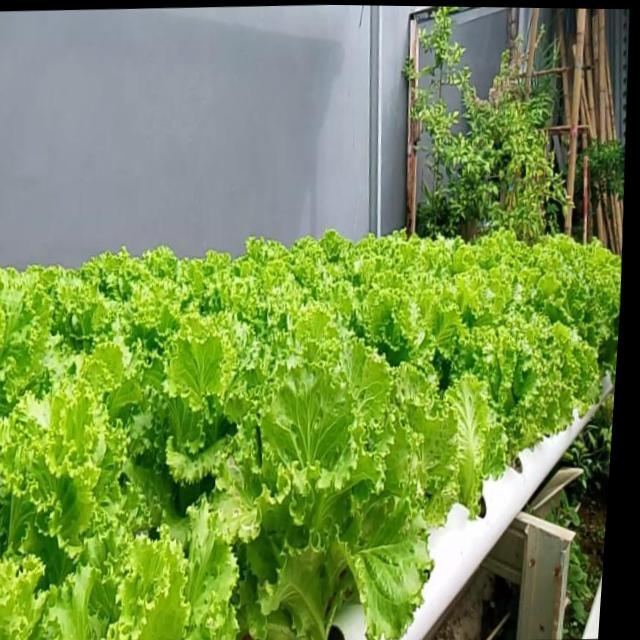Mature: (0, 211, 620, 640), (255, 329, 448, 624), (472, 255, 614, 470)
